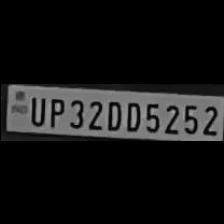2: (85, 96, 103, 130), (160, 100, 178, 134), (200, 101, 218, 135)
3: (65, 95, 83, 127)
5: (140, 98, 160, 132), (180, 100, 198, 134)
D: (122, 97, 140, 130), (103, 97, 121, 129)
P: (44, 94, 64, 126)
U: (26, 93, 44, 125)
